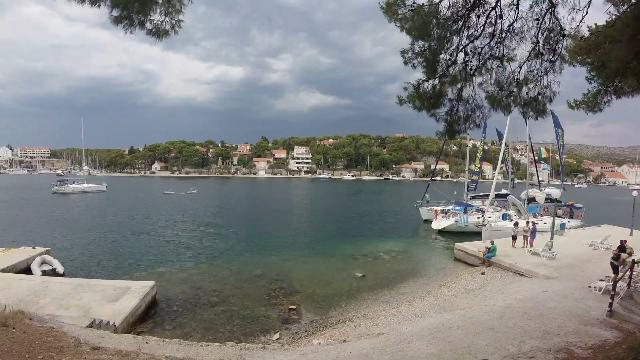Sailboat: (47, 176, 115, 197)
